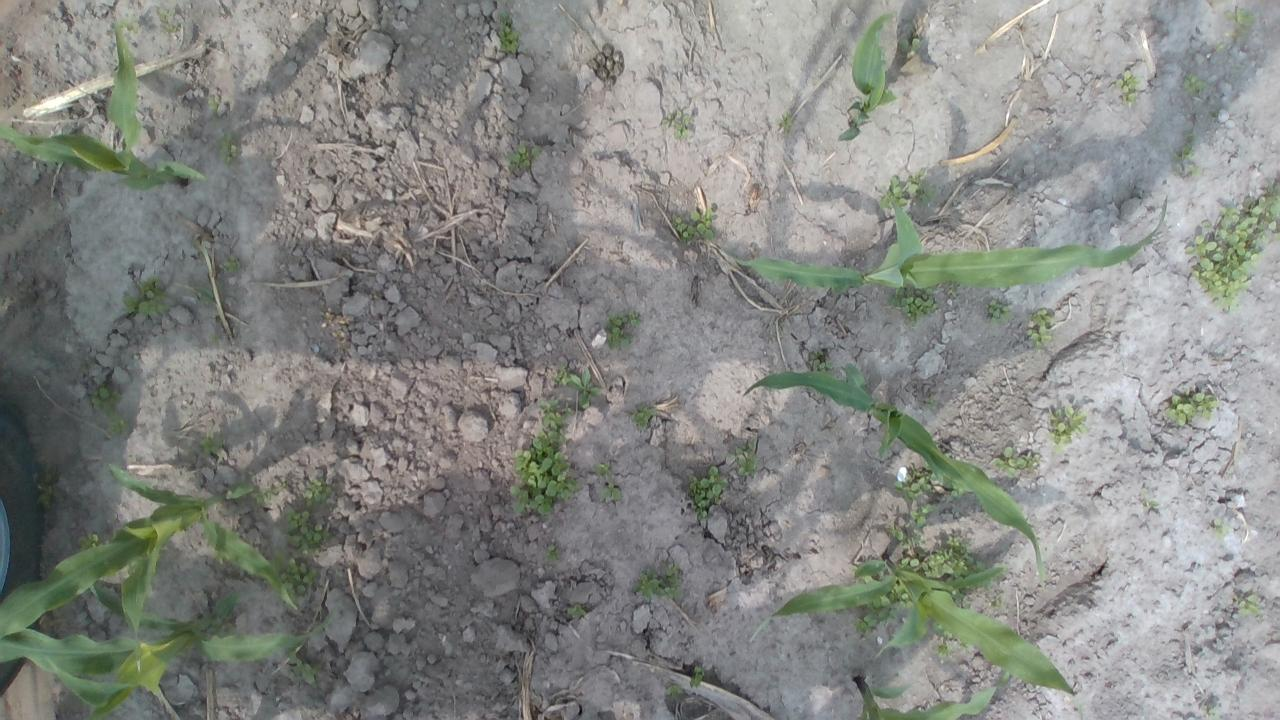Maize: (741, 364, 1045, 580), (0, 464, 305, 640), (746, 554, 1079, 697), (0, 581, 342, 720), (712, 192, 1171, 294), (0, 2, 209, 190), (836, 12, 908, 142), (846, 671, 1019, 720)
Weeds: (1184, 180, 1280, 308), (508, 400, 580, 514), (886, 526, 980, 578), (856, 584, 912, 634), (880, 168, 940, 210), (122, 276, 176, 318), (689, 464, 731, 518), (1166, 391, 1223, 427), (556, 366, 602, 410), (889, 285, 939, 324), (631, 562, 682, 600), (1046, 404, 1090, 448), (284, 509, 330, 549), (990, 445, 1042, 476), (279, 558, 318, 597), (91, 388, 124, 434), (893, 467, 936, 501), (674, 209, 716, 240), (606, 312, 640, 349), (1024, 308, 1056, 346), (1178, 132, 1202, 180), (252, 480, 290, 506), (1115, 69, 1143, 104), (498, 12, 522, 52), (290, 651, 319, 684), (302, 477, 332, 507), (506, 145, 540, 168), (662, 113, 692, 139), (736, 441, 758, 476), (986, 300, 1014, 326), (630, 406, 658, 430), (1226, 7, 1254, 30), (38, 474, 56, 507), (936, 625, 954, 658), (200, 432, 225, 455), (1236, 594, 1262, 616), (808, 352, 834, 374), (909, 503, 932, 524), (1180, 74, 1204, 93), (159, 9, 178, 33), (218, 255, 240, 275), (78, 534, 102, 552), (600, 482, 621, 502), (898, 38, 921, 55), (222, 142, 238, 166), (568, 604, 586, 622), (1210, 518, 1228, 536), (688, 667, 705, 686), (594, 462, 614, 478), (778, 112, 794, 131), (118, 21, 140, 34), (546, 544, 560, 562), (664, 684, 684, 696), (1142, 499, 1160, 512), (1206, 706, 1222, 720), (208, 99, 220, 117), (949, 486, 964, 499), (926, 398, 938, 410)
